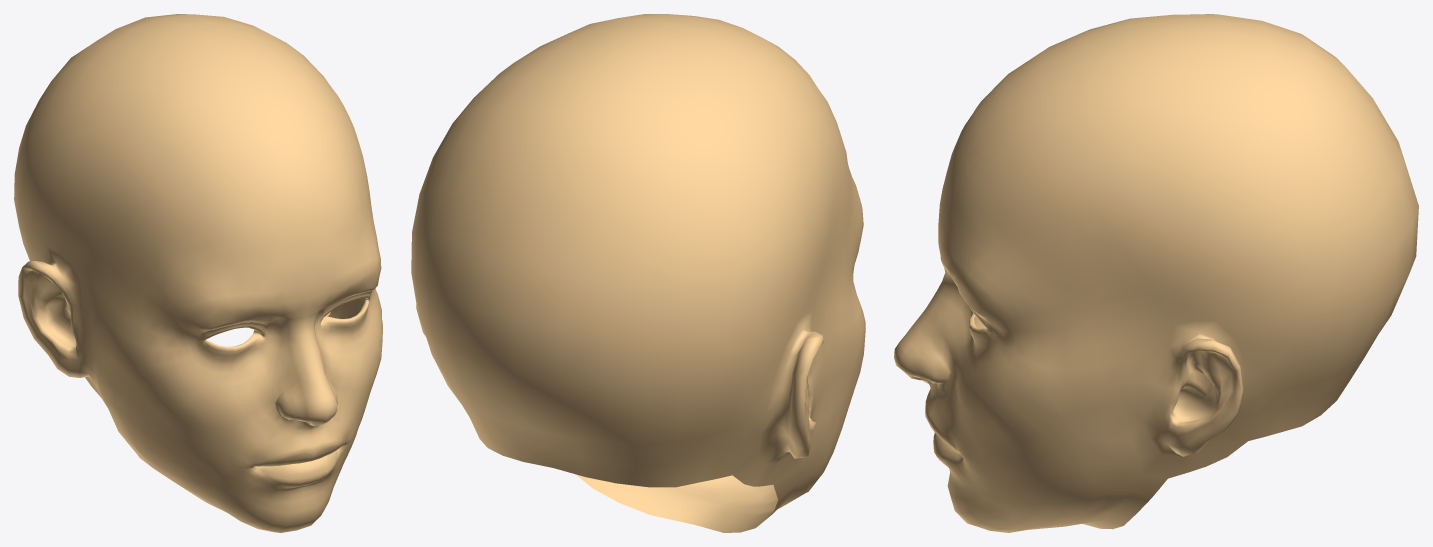
The model's file is MyHumanHeadTest.glb.
3 views of the same model, side by side, from view 1: azimuth 30°, elevation 25°; view 2: azimuth 150°, elevation 25°; view 3: azimuth 270°, elevation 25° (orthographic). The views are drawn at different scales.
Parts seen in each view (by area): view 1: MyHumanHead; view 2: MyHumanHead; view 3: MyHumanHead.
Part boxes in pixels (x1=…): MyHumanHead: x1=14, y1=14, x2=382, y2=532; MyHumanHead: x1=411, y1=14, x2=865, y2=532; MyHumanHead: x1=894, y1=14, x2=1418, y2=532.
Size of the model in its own units: 0.1879 by 0.2414 by 0.2347.
